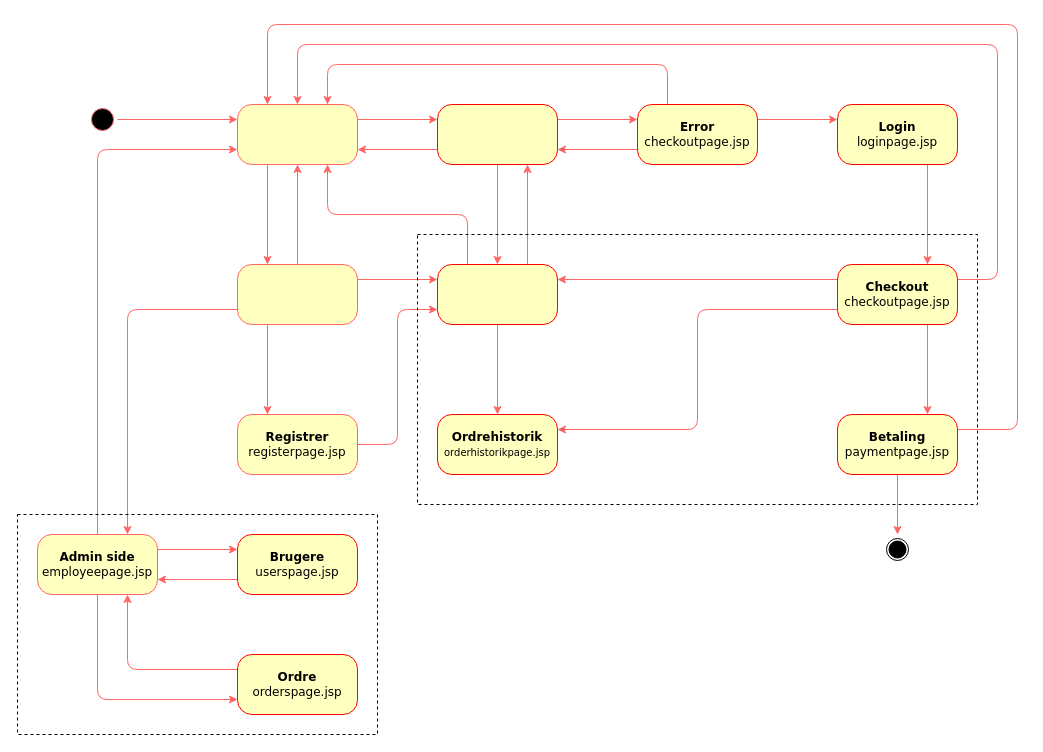
Image size: 1043x752. Some labels were removed from this diagram. Here are the shapes that lost their labels. From the top down, the centre of each, then its label:
At (297,134): "Forsiden index.jsp".
At (497,134): "Kurv basketpage.jsp".
At (297,294): "Login(Popup)".
At (497,294): "Kunde side customerpage.jsp".
